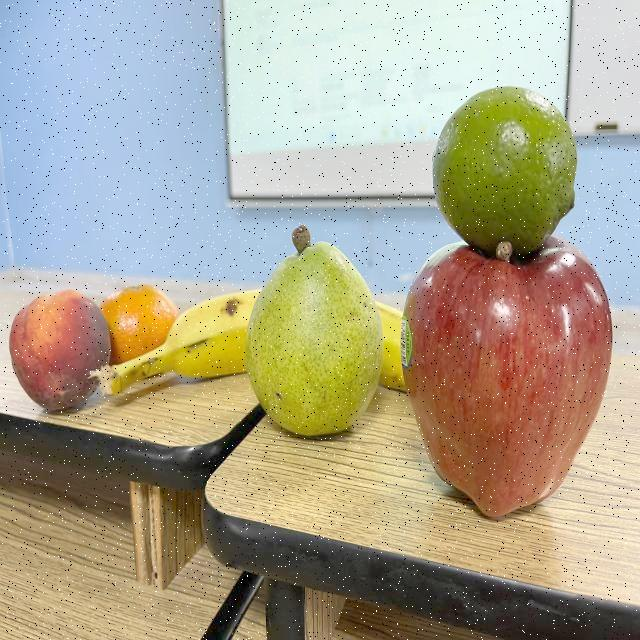Apel Gala: (7, 286, 114, 420)
Apel Granny Smith: (429, 80, 581, 255)
Apel Merah: (101, 279, 186, 383)
Lemon: (243, 223, 386, 440)
Persik: (89, 280, 413, 402)
Pisang: (399, 228, 617, 520)
